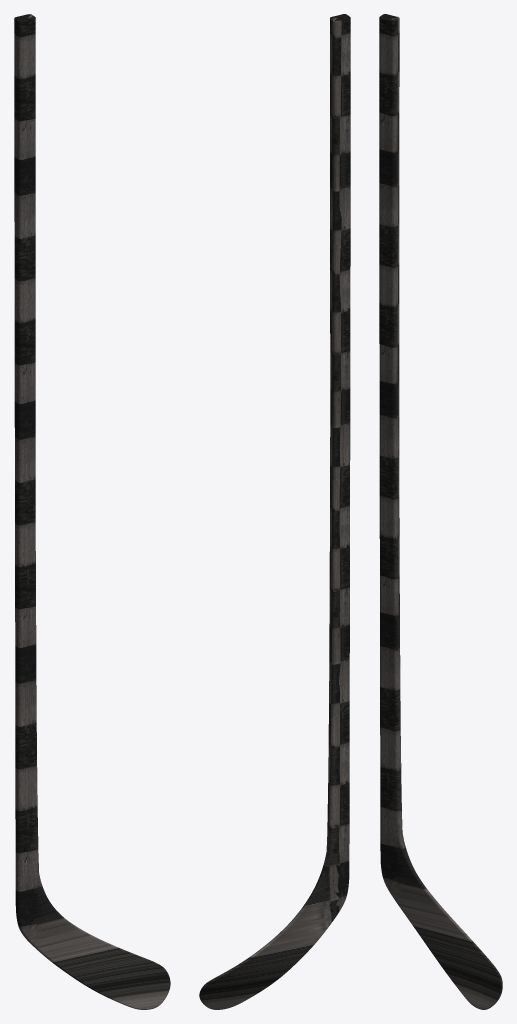
The model's file is P92-SBT.glb.
3 views of the same model, side by side, from view 1: azimuth 30°, elevation 25°; view 2: azimuth 210°, elevation 25°; view 3: azimuth 330°, elevation 25° (orthographic). The views are drawn at different scales.
Visible parts, largest first — view 1: geometry_0; view 2: geometry_0; view 3: geometry_0.
Boxes of the visible parts, bbox=[...] form: geometry_0: bbox=[14, 14, 170, 1009]; geometry_0: bbox=[199, 14, 350, 1009]; geometry_0: bbox=[379, 14, 502, 1009].
Size of the model in its own units: 241 by 1650 by 57.34.
Materials: 1 (1 with a texture image).
